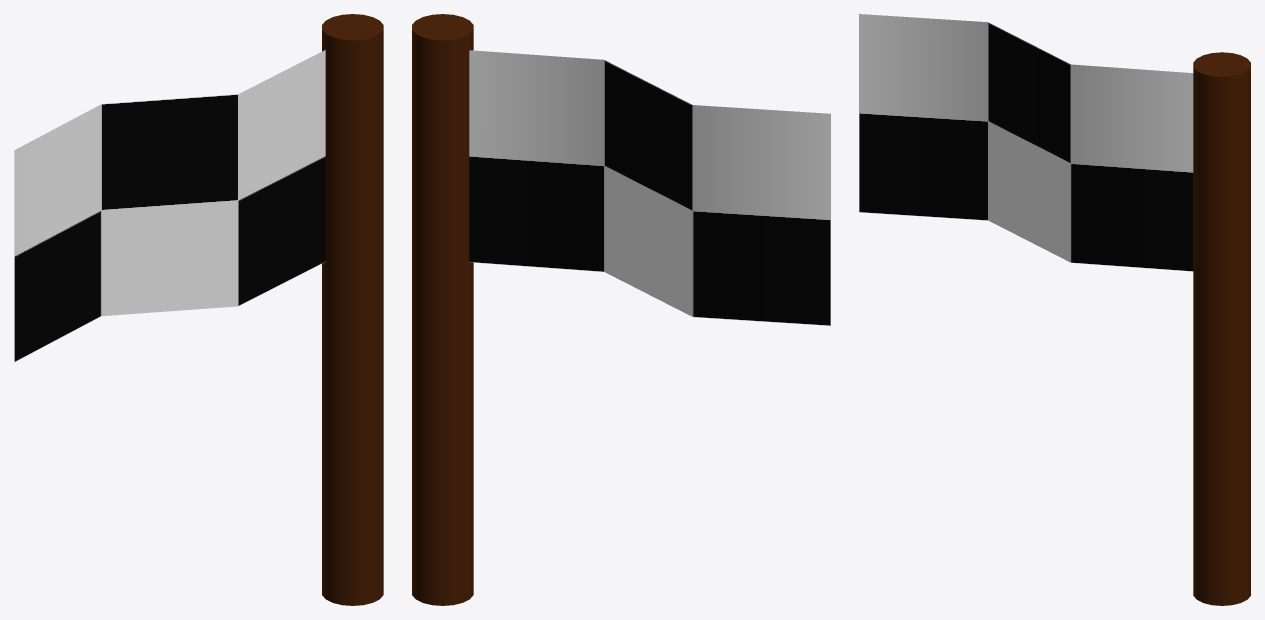
Rendered from Flagg.FBX.
The picture shows the model from 3 angles, left to right: view 1: azimuth 30°, elevation 25°; view 2: azimuth 150°, elevation 25°; view 3: azimuth 330°, elevation 25°; orthographic projection. The views are drawn at different scales.
Visible parts, largest first — view 1: Flagg; view 2: Flagg; view 3: Flagg.
Boxes of the visible parts, x1,y1,x2,y2 form: Flagg: (14,14,383,605); Flagg: (412,14,830,605); Flagg: (859,14,1250,605).
Size of the model in its own units: 14.44 by 20 by 2.58.
1 material, 1 textured.
